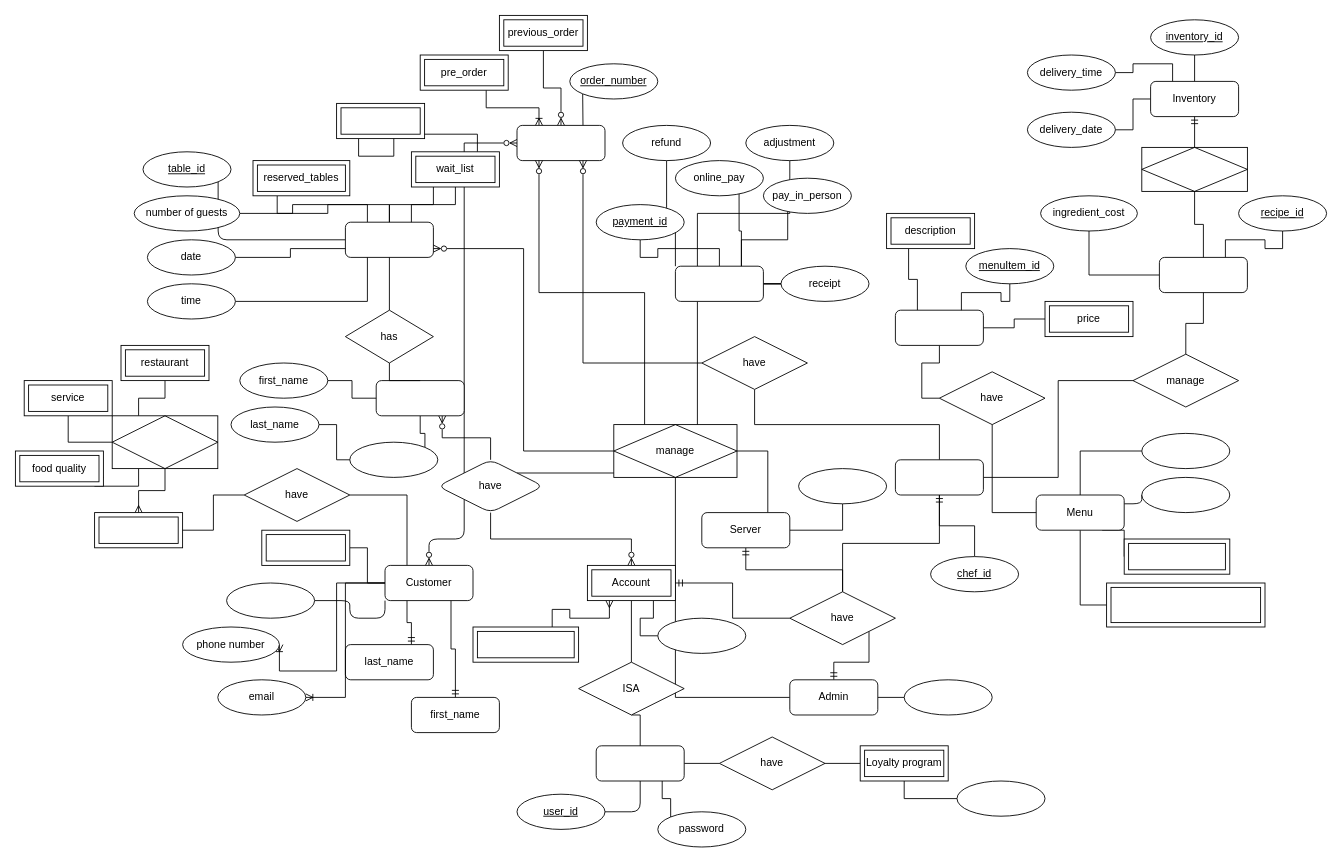
Image size: 1342x862. Some labels were removed from this diagram. Here are the shapes that lost their labels. From the top down, the centre of each, then its label:
[380,121]: dine-in
[560,143]: Orders
[1194,169]: associated with
[389,239]: Tables
[719,283]: Payment Transaction
[1203,275]: Recipe
[939,327]: Menu Item
[419,398]: Reservation
[164,442]: can rate
[393,459]: reservation_id
[1185,451]: menu_item
[842,486]: server_id
[939,477]: Chef
[1185,495]: menu_id
[138,530]: Feedback
[305,547]: personal_info
[1176,556]: menu_category
[270,600]: customer_id
[1185,604]: special_occasion_items
[525,644]: payment_option
[701,635]: account_id
[947,697]: admin_id
[639,763]: User
[1000,798]: loyalty_id
